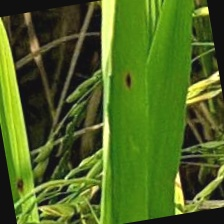Bacterial_Leaf_Blight: (121, 65, 135, 93)
